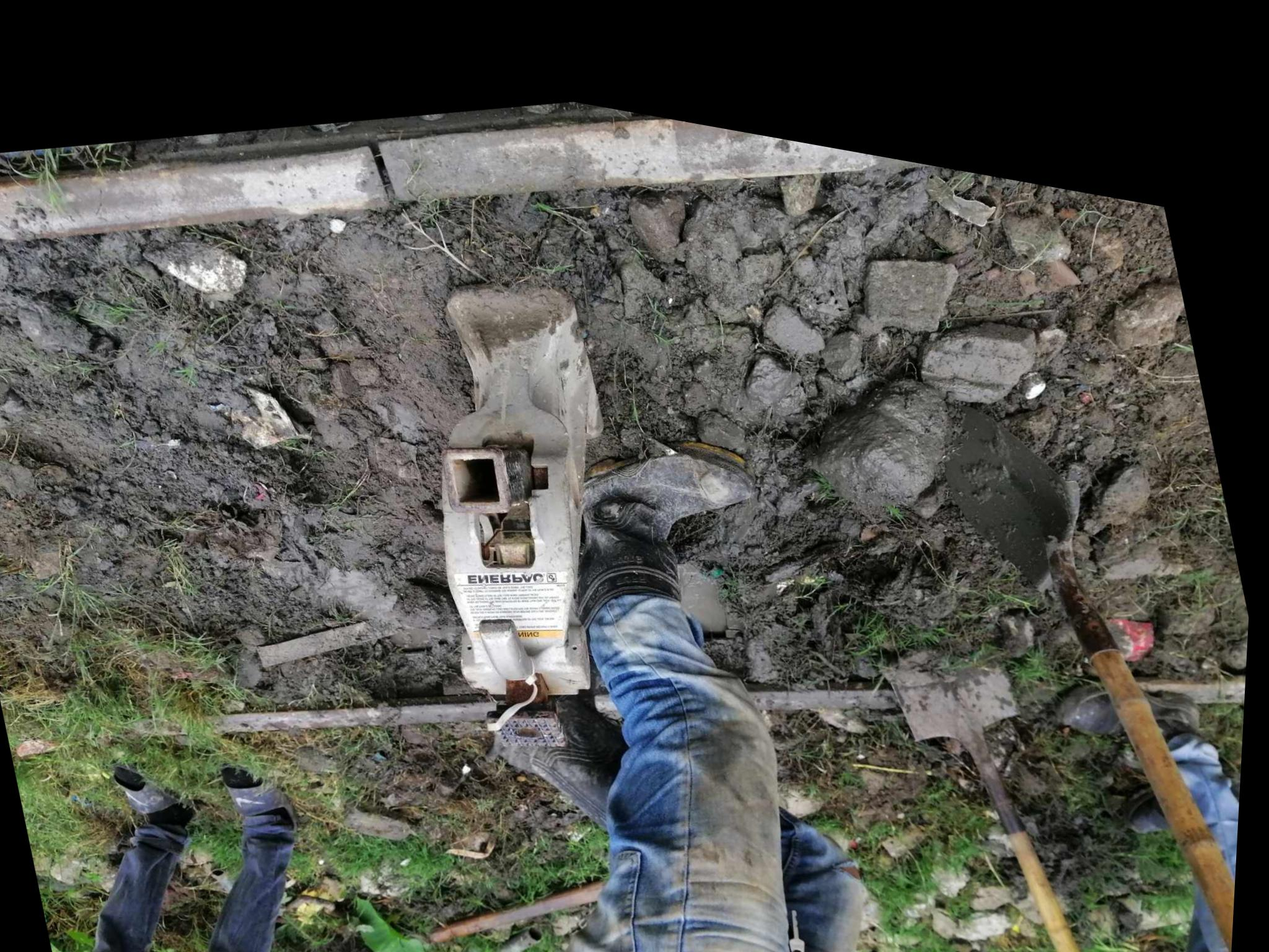person: (298, 79, 471, 259)
